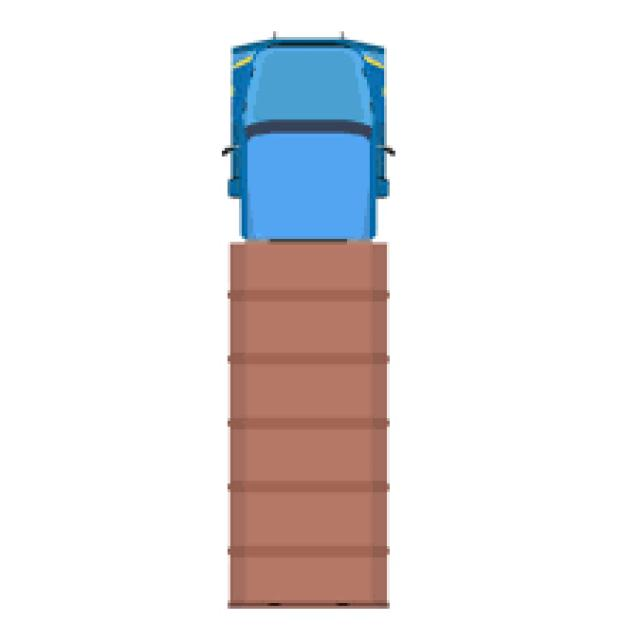truck: (223, 33, 400, 618)
